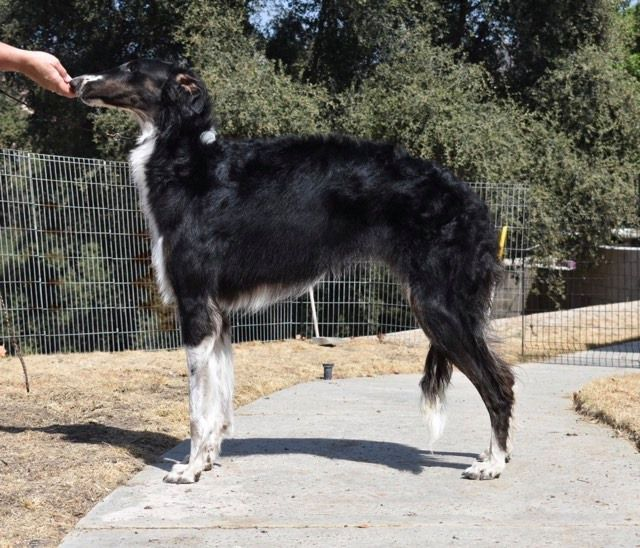borzoi: (68, 57, 522, 485)
